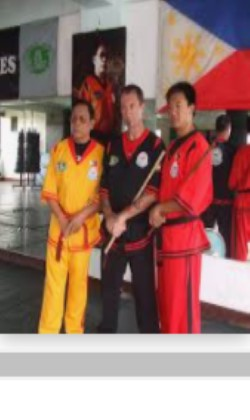baston_e: (125, 153, 166, 201), (174, 147, 221, 182)
baston_v: (101, 245, 110, 257), (210, 136, 218, 147), (160, 147, 168, 157), (145, 228, 152, 238)
